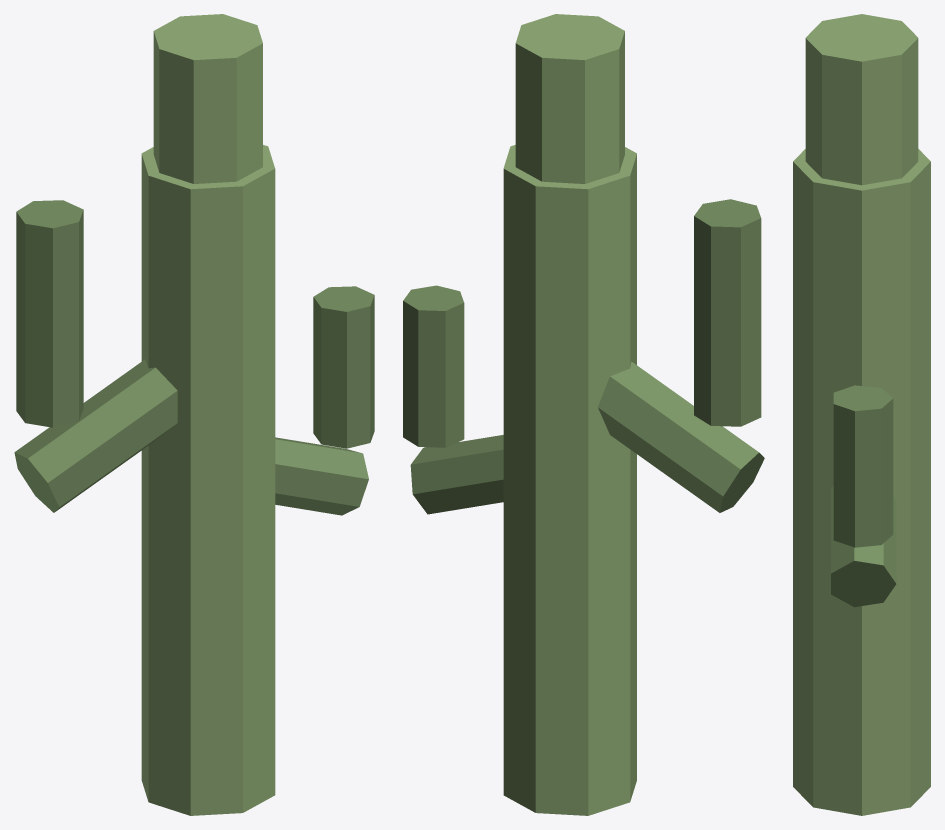
Rendered from prop_cactus.glb.
3 renders of one model, left to right at view 1: azimuth 30°, elevation 25°; view 2: azimuth 150°, elevation 25°; view 3: azimuth 270°, elevation 25°, orthographic.
Visible parts, largest first — view 1: body_trunk, accent_arms; view 2: body_trunk, accent_arms; view 3: body_trunk, accent_arms.
Part boxes in pixels (<box>): body_trunk: <box>141,14,275,815</box>; accent_arms: <box>14,200,374,515</box>; body_trunk: <box>503,14,636,815</box>; accent_arms: <box>403,199,764,514</box>; body_trunk: <box>793,14,930,815</box>; accent_arms: <box>831,385,896,607</box>.
Size of the model in its own units: 1.28 by 2.64 by 0.44.
